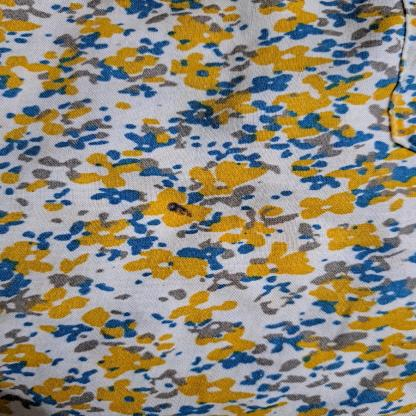spot: (164, 199, 201, 220)
